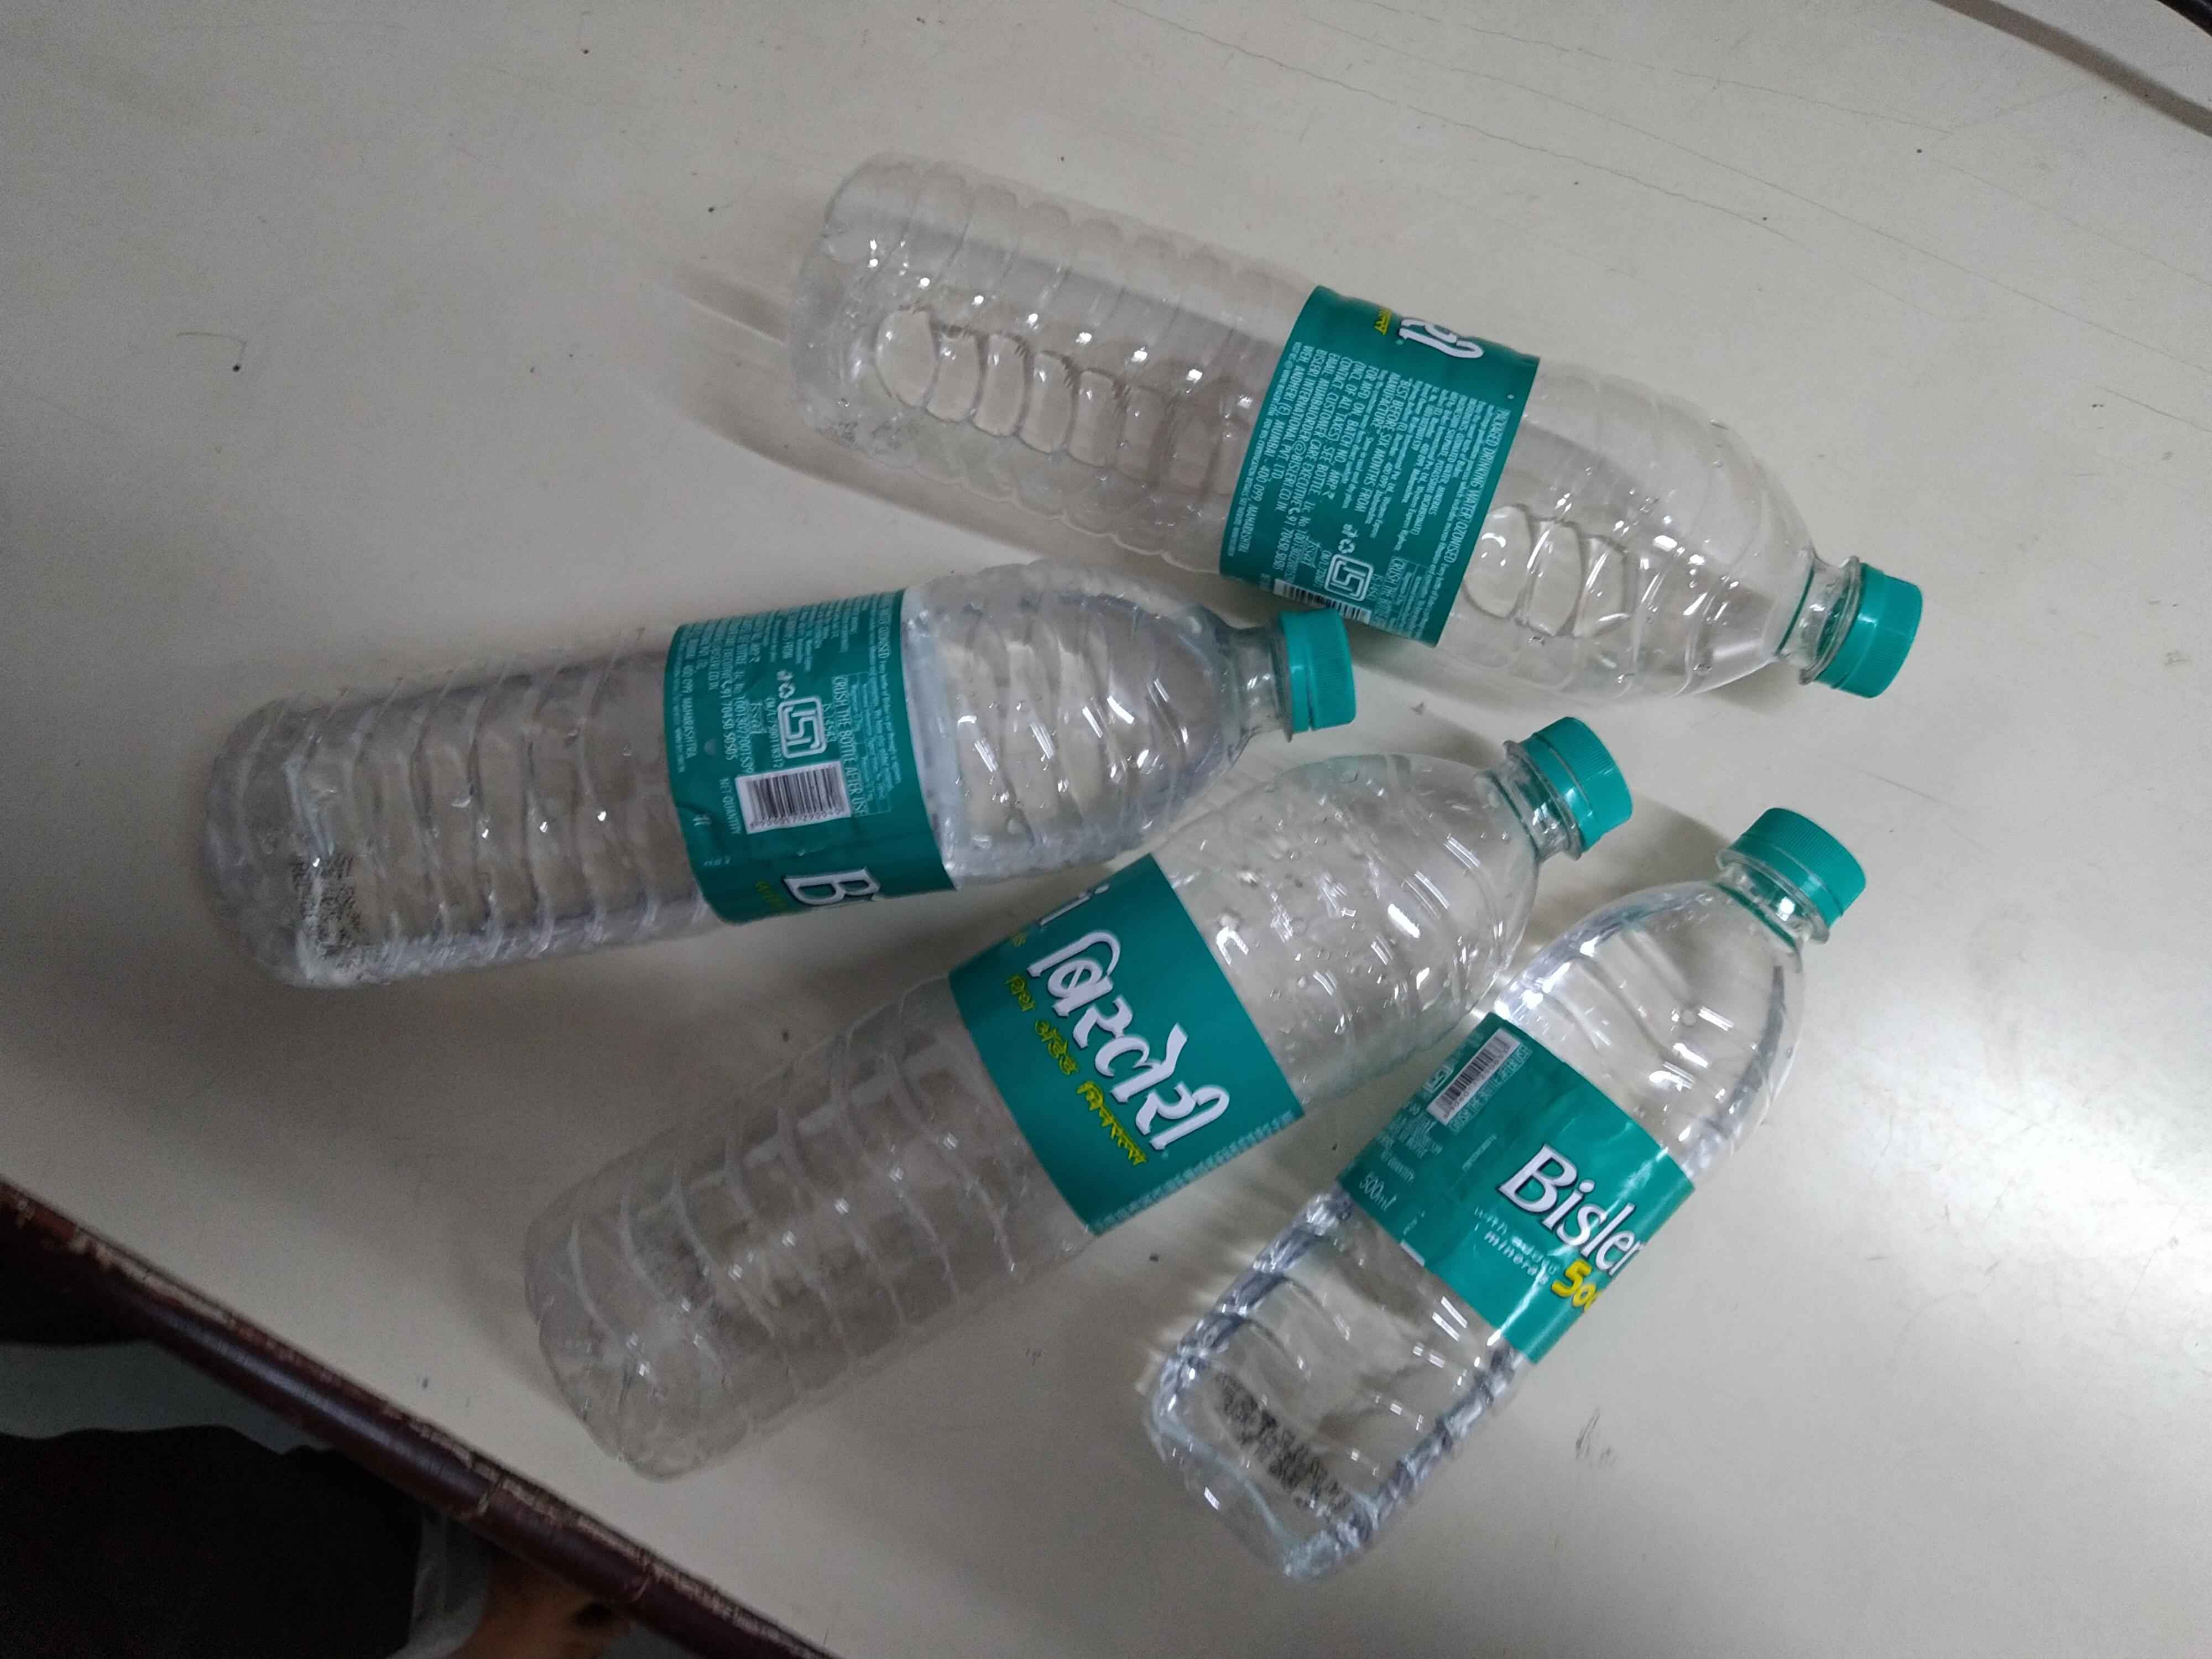Bisleri: (1007, 868, 1247, 1164), (716, 645, 927, 908), (1430, 1082, 1676, 1305), (1332, 282, 1503, 525)
